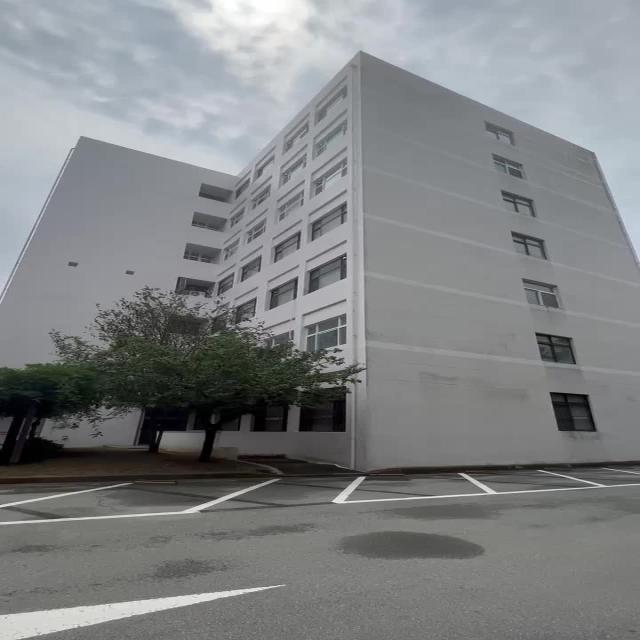building: (185, 81, 640, 310)
